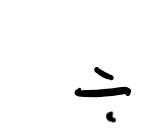div: (74, 67, 131, 123)
